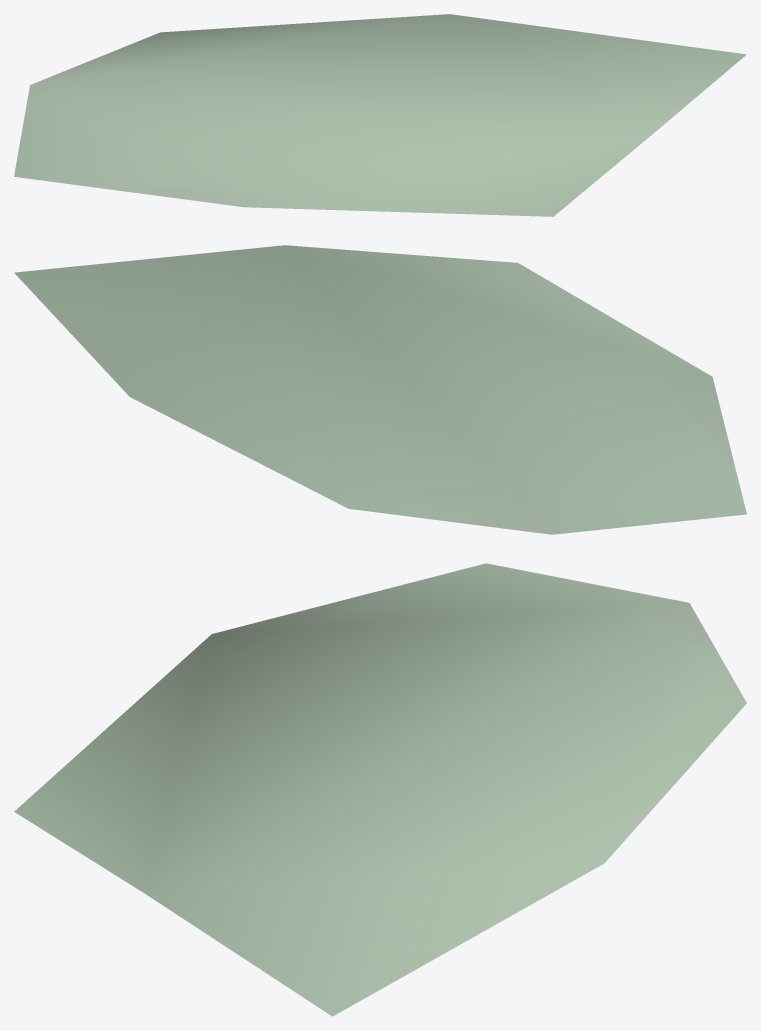
Rendered from TROLLHOLE02_HOLECAP159.fbx.
The picture shows the model from 3 angles, top to bottom: view 1: azimuth 30°, elevation 25°; view 2: azimuth 150°, elevation 25°; view 3: azimuth 270°, elevation 25°; orthographic projection. The views are drawn at different scales.
Parts seen in each view (by area): view 1: TROLLHOLE02_HOLECAP159; view 2: TROLLHOLE02_HOLECAP159; view 3: TROLLHOLE02_HOLECAP159.
Part boxes in pixels (x1=…): TROLLHOLE02_HOLECAP159: x1=14, y1=14, x2=746, y2=216; TROLLHOLE02_HOLECAP159: x1=14, y1=245, x2=746, y2=534; TROLLHOLE02_HOLECAP159: x1=14, y1=563, x2=746, y2=1016.
Bounding box in the file's own units: 40027 × 1051 × 27481.
1 material, 1 textured.
